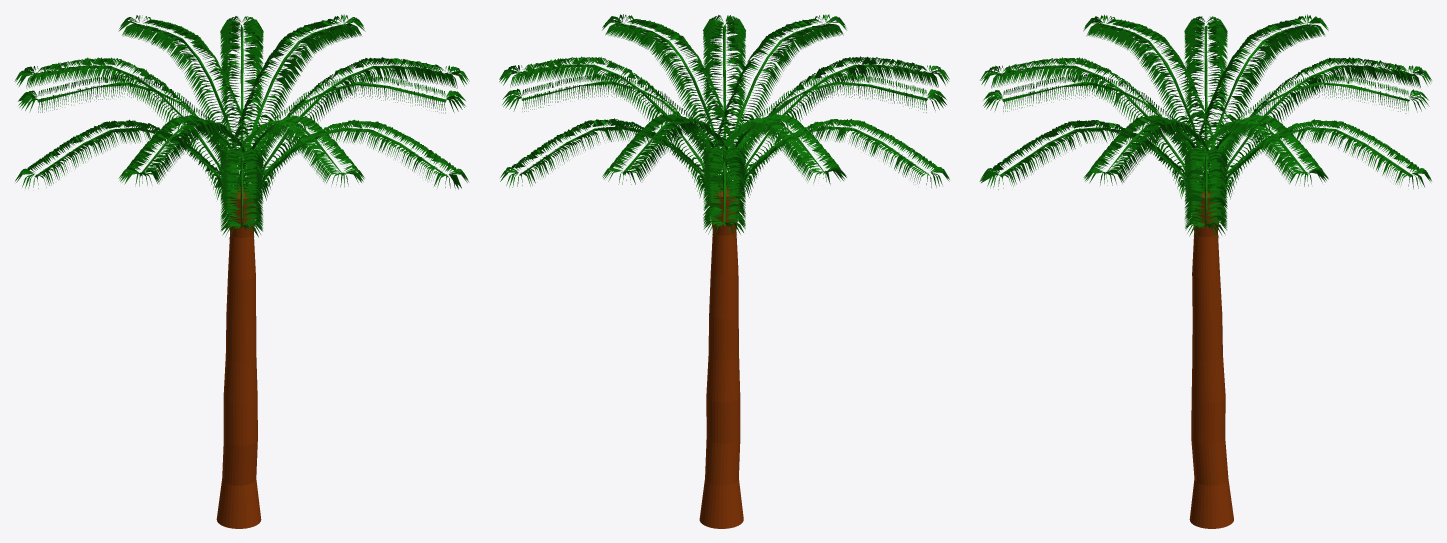
The model's file is Palm Tree Leaves Reduce Faces Pree Decimate.fbx.
3 renders of one model, left to right at view 1: azimuth 30°, elevation 25°; view 2: azimuth 150°, elevation 25°; view 3: azimuth 270°, elevation 25°, orthographic.
Parts seen in each view (by area): view 1: Cylinder.001, Cylinder; view 2: Cylinder.001, Cylinder; view 3: Cylinder.001, Cylinder.
Part boxes in pixels (bbox=[...]): Cylinder.001: bbox=[14, 14, 469, 238]; Cylinder: bbox=[216, 185, 261, 528]; Cylinder.001: bbox=[499, 14, 949, 236]; Cylinder: bbox=[699, 183, 743, 528]; Cylinder.001: bbox=[979, 14, 1431, 237]; Cylinder: bbox=[1189, 189, 1233, 528].
Size of the model in its own units: 393 by 372 by 346.
